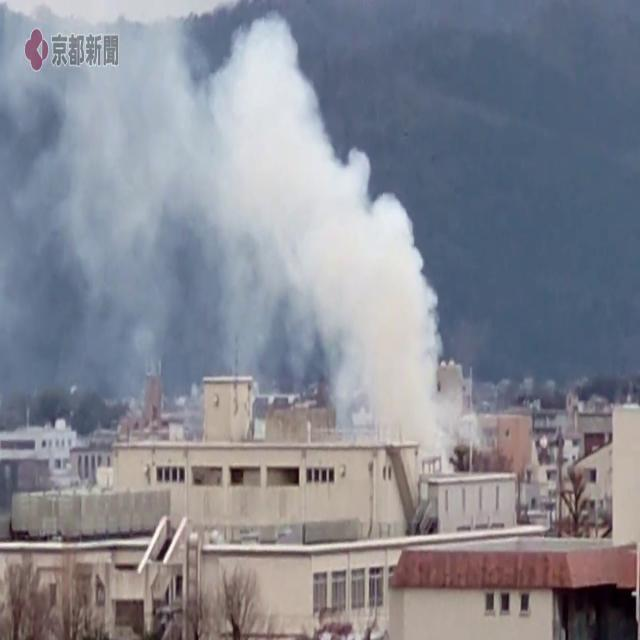Smoke: (0, 0, 442, 430)
